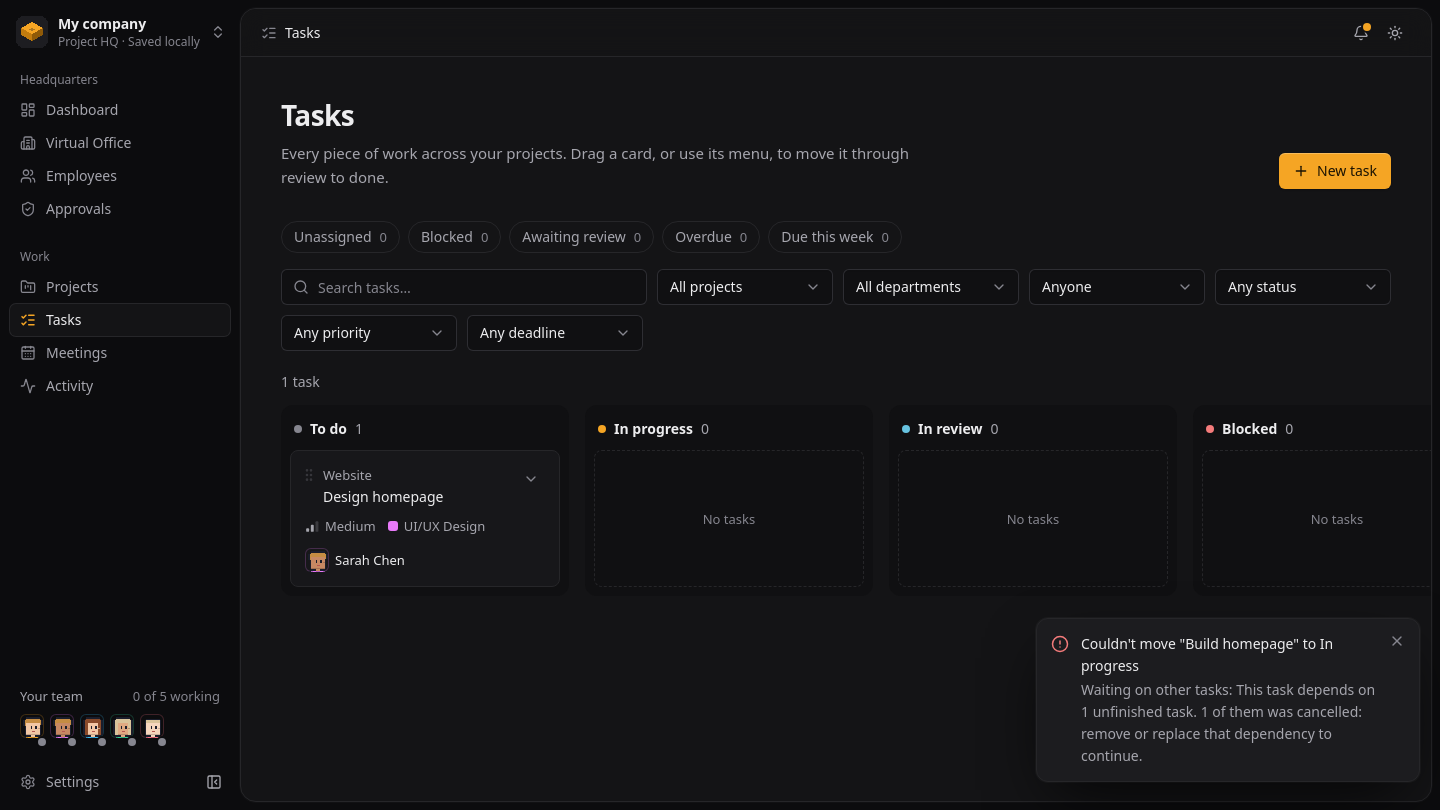
Test: task board › changes status from the card menu (the keyboard and touch path)
The image size is (1440, 810).
Click the button named "Change status of \"Design homepage\" (now To do)": (531, 479) [517,465,545,493]
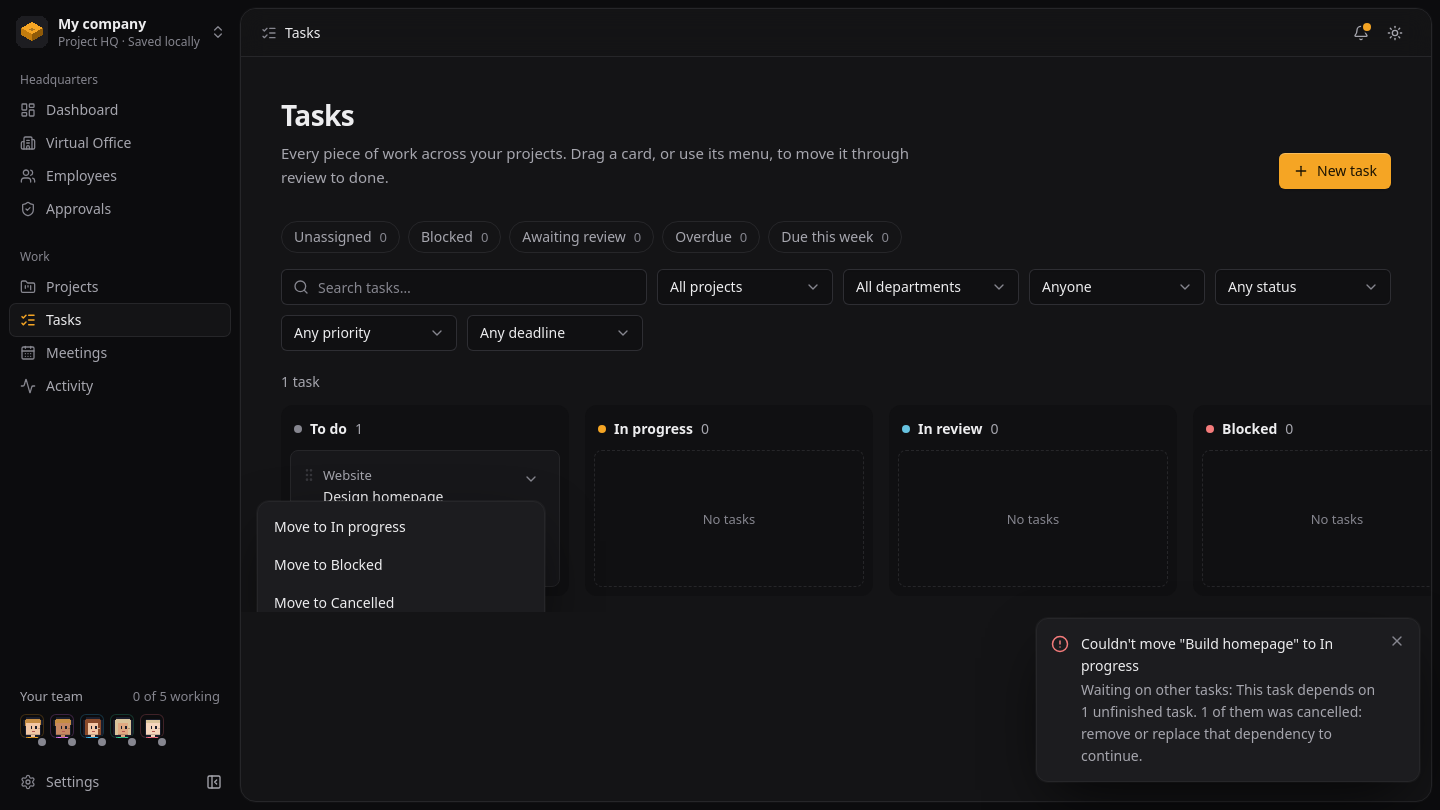
Click the menu item "Move to Blocked": (328, 564) [264,546,538,584]
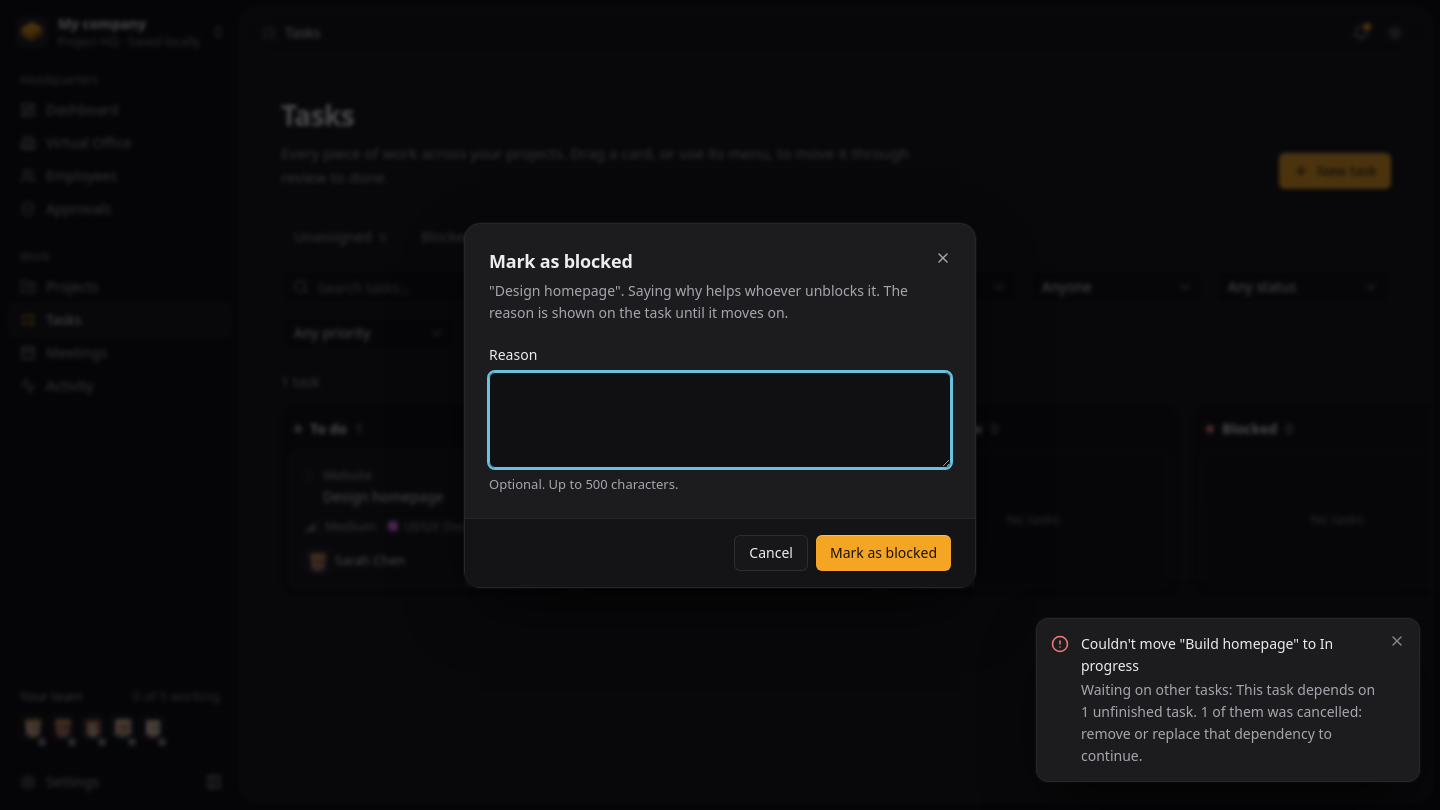
In the text box labelled "Reason": (720, 420) [489,372,951,468], type "Waiting on brand assets"
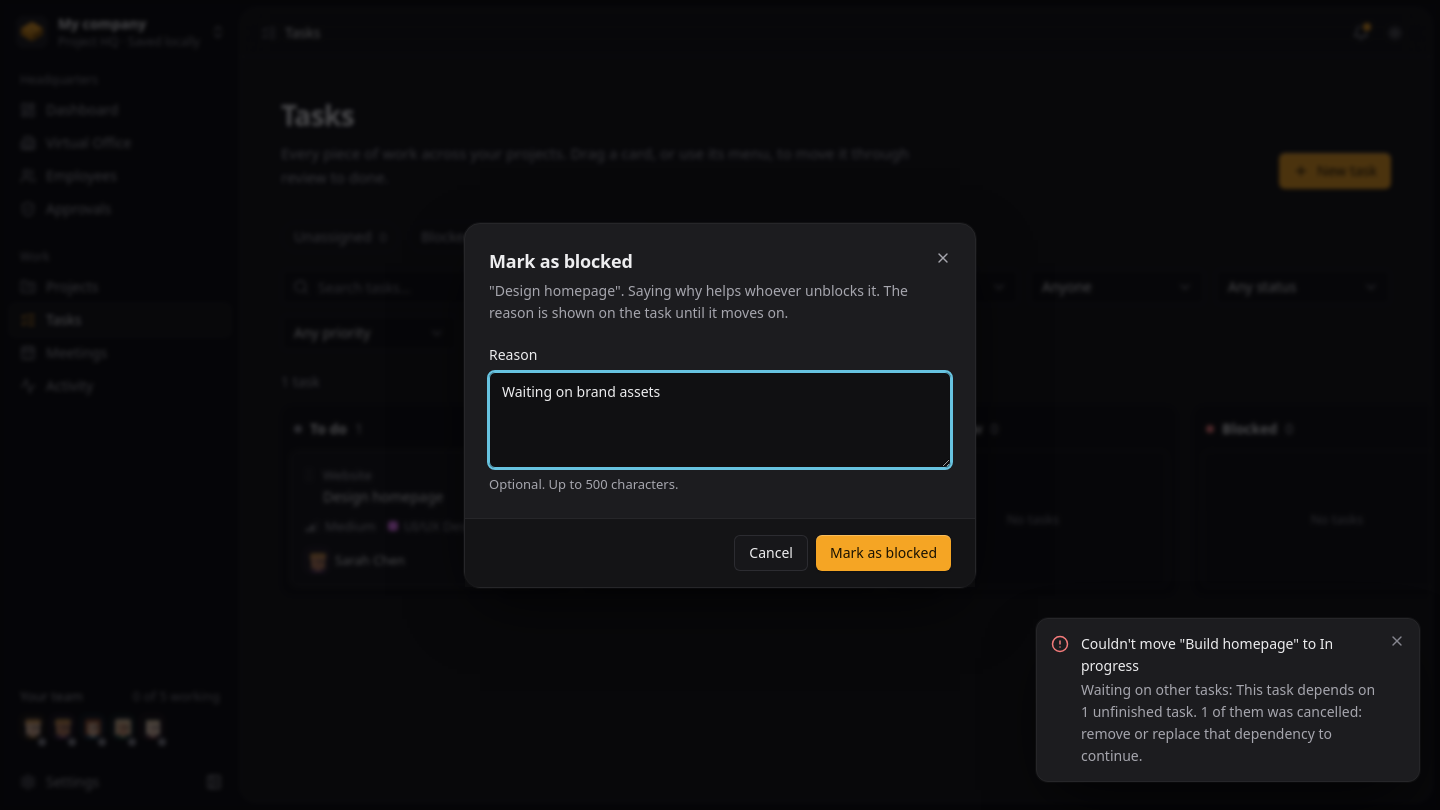
Click the button "Mark as blocked": (884, 552) [816,534,951,570]
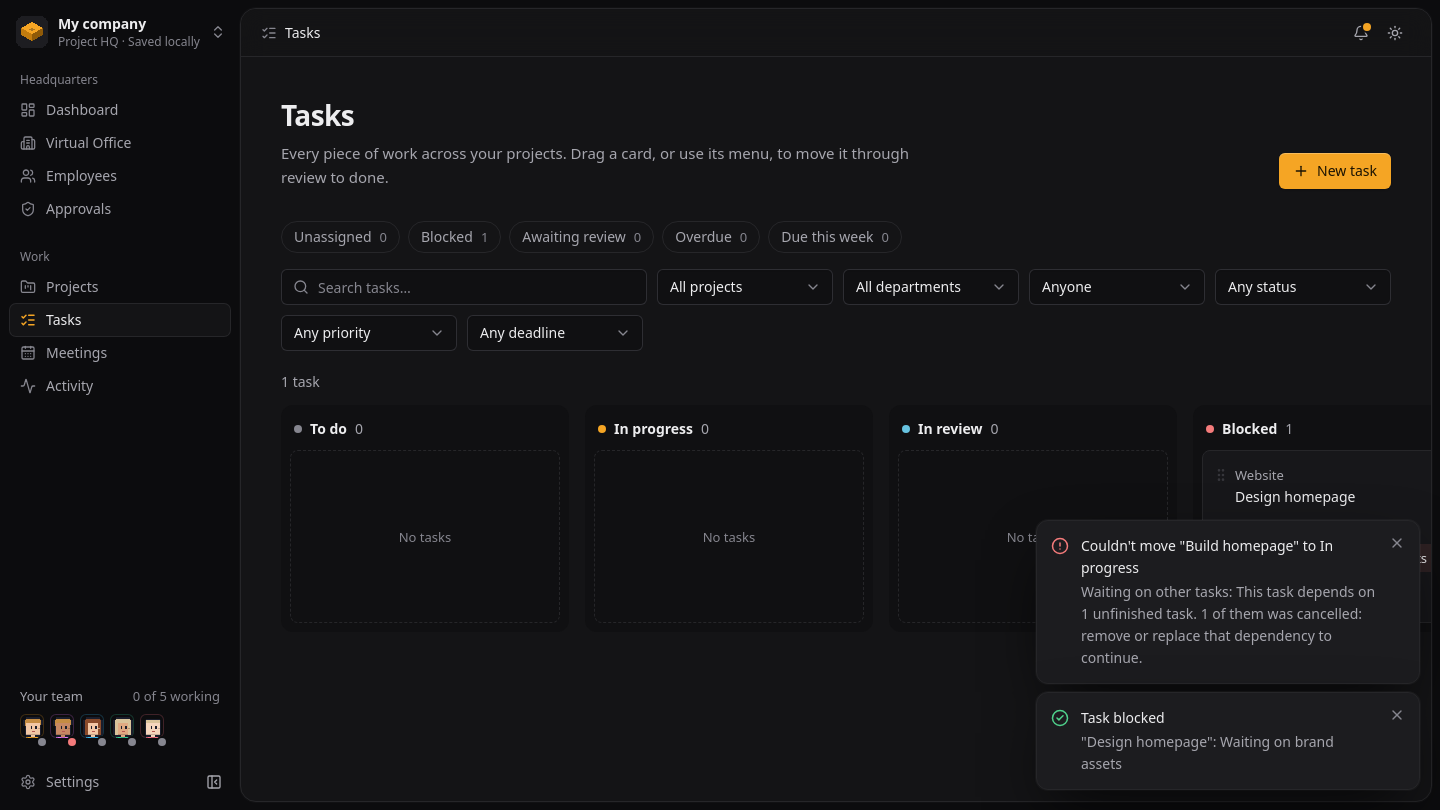
Now the text "Waiting on brand assets" is shown, box [1280,549,1427,567]
